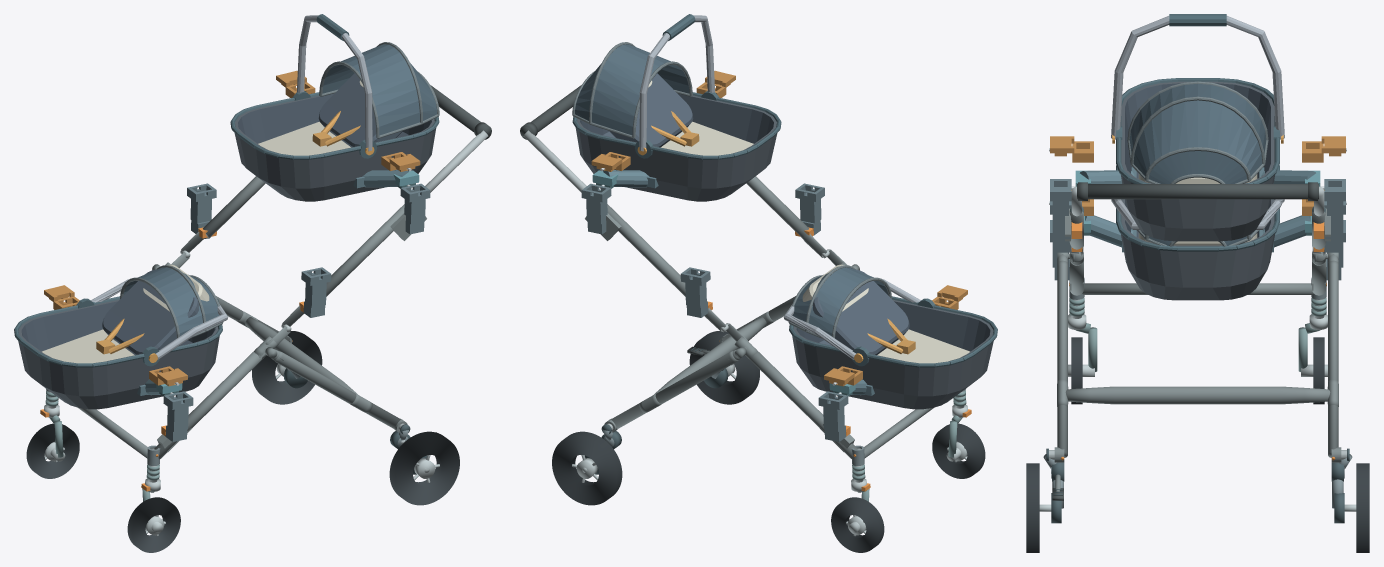
The model's file is D04_w650_state1_wheel_S.glb.
The picture shows the model from 3 angles, left to right: view 1: azimuth 30°, elevation 25°; view 2: azimuth 150°, elevation 25°; view 3: azimuth 270°, elevation 25°; orthographic projection. The views are drawn at different scales.
Parts seen in each view (by area): view 1: D04_Upper, D04_Lower, RL_tire.008, RR_tire.008, FL_tire.008, FR_tire.008, V46_rear_leg_-1.009, main_lower_-1.009, main_upper_-1.009, V46_rearbar.009, Universal_Cabin_Receiver_L_-1, Universal_Cabin_Receiver_M_-1 (+10 smaller); view 2: D04_Upper, D04_Lower, RR_tire.008, FR_tire.008, RL_tire.008, FL_tire.008, V46_rear_leg_1.009, main_lower_1.009, main_upper_1.009, V46_rearbar.009, Universal_Cabin_Receiver_L_1, Universal_Cabin_Receiver_M_1 (+10 smaller); view 3: D04_Upper, D04_Lower, V46_rearbar.009, round_handle.008, V46_rear_leg_1.009, V46_rear_leg_-1.009, D04_Lower_Mount_L, D04_Upper_Mount_H, front_fixed_round_tube.008, RL_tire.008, RR_tire.008, Universal_Cabin_Receiver_H_1 (+7 smaller).
Boxes of the visible parts, x1,y1,x2,y2 form: D04_Upper: [230, 14, 439, 201]; D04_Lower: [14, 264, 228, 409]; RL_tire.008: [389, 431, 459, 505]; RR_tire.008: [252, 331, 322, 404]; FL_tire.008: [127, 497, 180, 552]; FR_tire.008: [26, 423, 79, 478]; V46_rear_leg_-1.009: [273, 351, 400, 428]; main_lower_-1.009: [154, 352, 265, 459]; main_upper_-1.009: [326, 204, 404, 296]; V46_rearbar.009: [245, 317, 357, 394]; Universal_Cabin_Receiver_L_-1: [163, 391, 193, 441]; Universal_Cabin_Receiver_M_-1: [301, 267, 331, 317]; D04_Upper: [572, 14, 781, 201]; D04_Lower: [783, 264, 997, 409]; RR_tire.008: [552, 431, 622, 505]; FR_tire.008: [831, 497, 884, 552]; RL_tire.008: [689, 331, 759, 404]; FL_tire.008: [932, 423, 985, 478]; V46_rear_leg_1.009: [611, 351, 738, 428]; main_lower_1.009: [746, 352, 857, 459]; main_upper_1.009: [607, 204, 685, 296]; V46_rearbar.009: [654, 317, 766, 394]; Universal_Cabin_Receiver_L_1: [818, 391, 848, 441]; Universal_Cabin_Receiver_M_1: [680, 267, 710, 317]; D04_Upper: [1111, 14, 1284, 241]; D04_Lower: [1111, 165, 1284, 300]; V46_rearbar.009: [1065, 386, 1330, 404]; round_handle.008: [1077, 184, 1318, 199]; V46_rear_leg_1.009: [1328, 260, 1338, 457]; V46_rear_leg_-1.009: [1057, 260, 1067, 457]; D04_Lower_Mount_L: [1084, 215, 1311, 252]; D04_Upper_Mount_H: [1071, 167, 1324, 189]; front_fixed_round_tube.008: [1082, 283, 1313, 294]; RL_tire.008: [1026, 463, 1039, 552]; RR_tire.008: [1356, 463, 1369, 552]; Universal_Cabin_Receiver_H_1: [1324, 179, 1345, 239].
Bounding box in the file's own units: 1.27 × 1.28 × 0.766.
